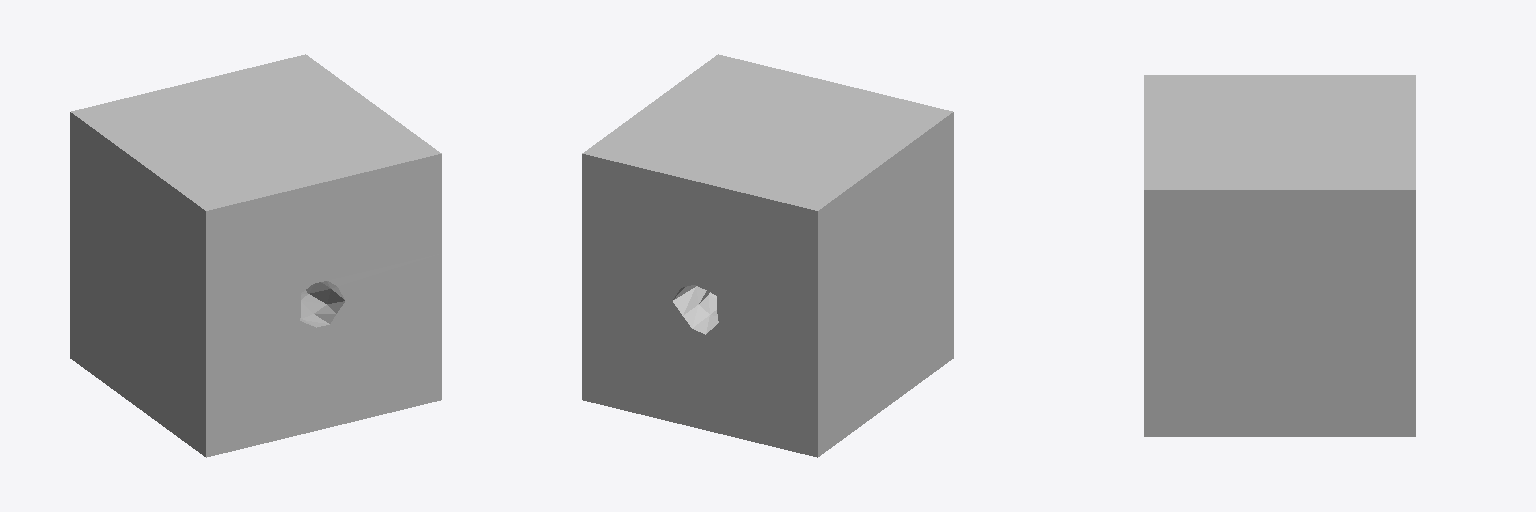
The model's file is tunnel_block_1.obj.
3 renders of one model, left to right at view 1: azimuth 30°, elevation 25°; view 2: azimuth 150°, elevation 25°; view 3: azimuth 270°, elevation 25°, orthographic.
Visible parts, largest first — view 1: Box001; view 2: Box001; view 3: Box001.
Part boxes in pixels (x1,y1,x2,y2): Box001: (70, 54, 441, 457); Box001: (582, 54, 953, 457); Box001: (1144, 75, 1415, 436).
Size of the model in its own units: 100 by 100 by 99.82.